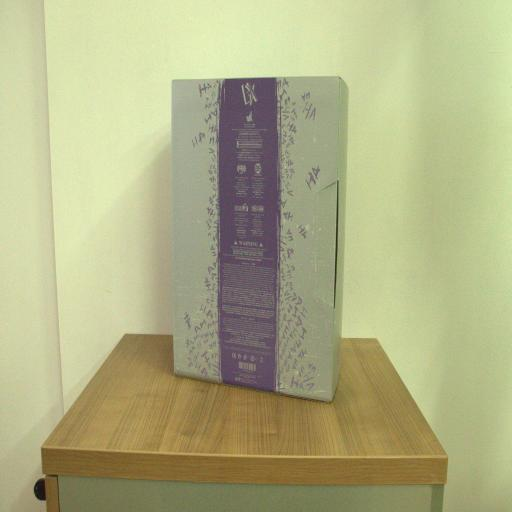Joker: (170, 78, 350, 403)
